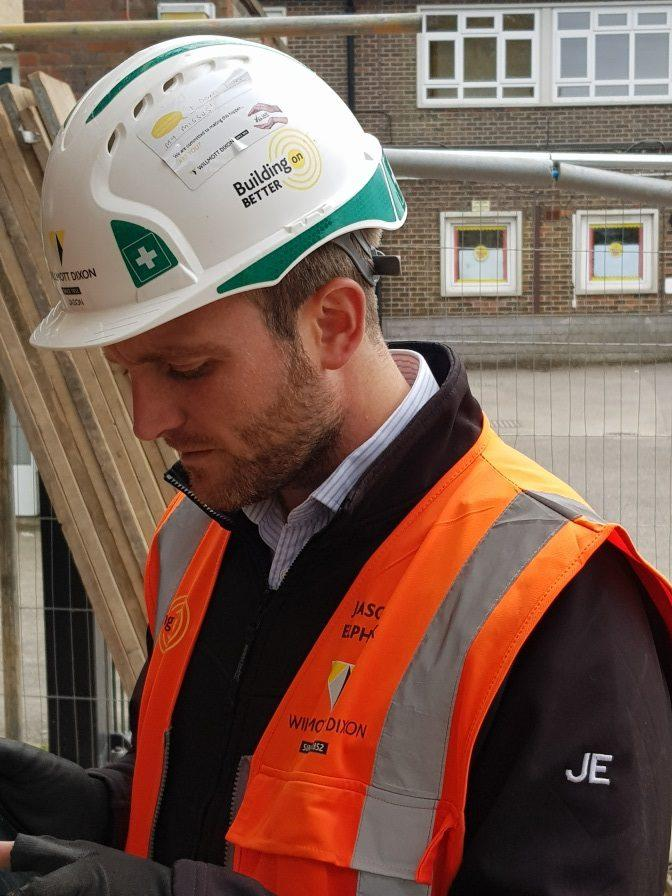helmet: (28, 34, 401, 344)
